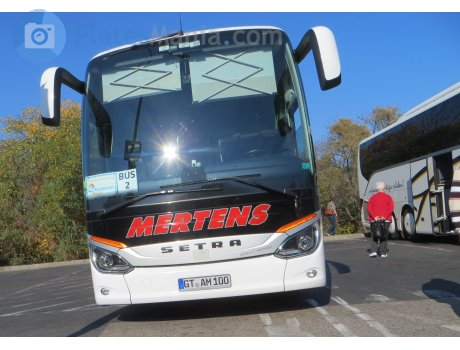License Plates: (184, 278, 227, 283)
